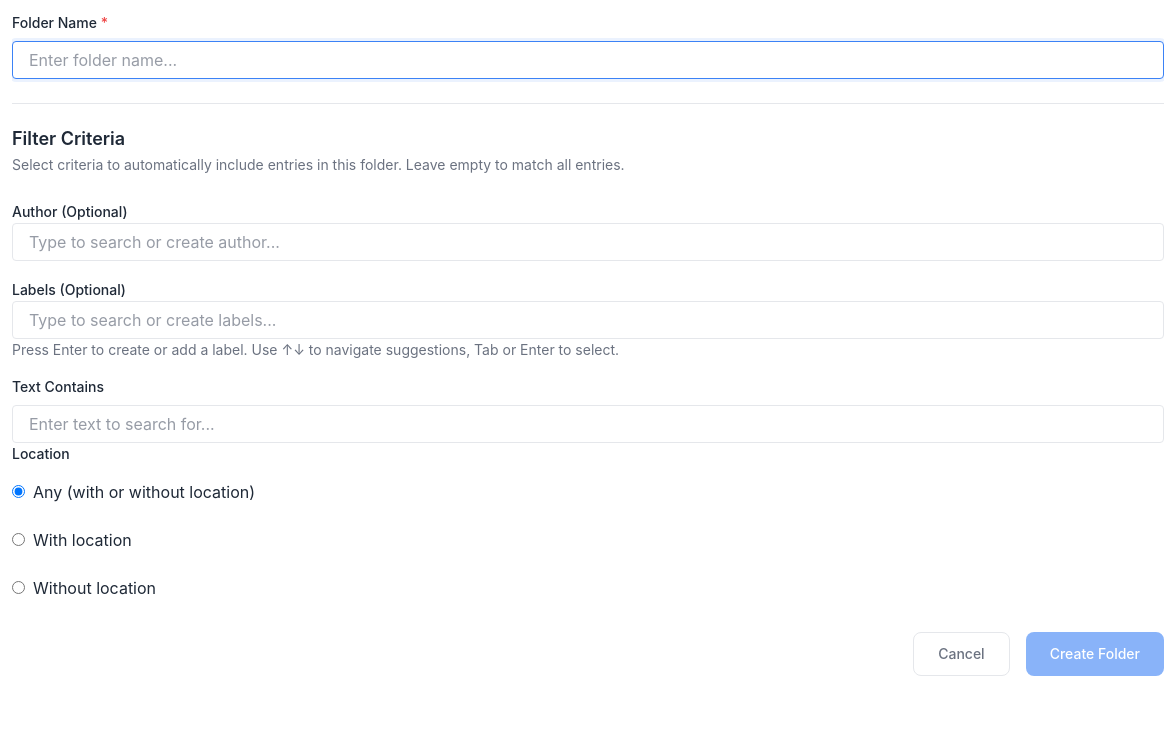
Test: FolderForm › should enable submit button when folder name is provided
Type "Test Folder" into the field labelled "Folder Name *".
click(588, 60); type("Test Folder")  # box [12,41,1164,79]
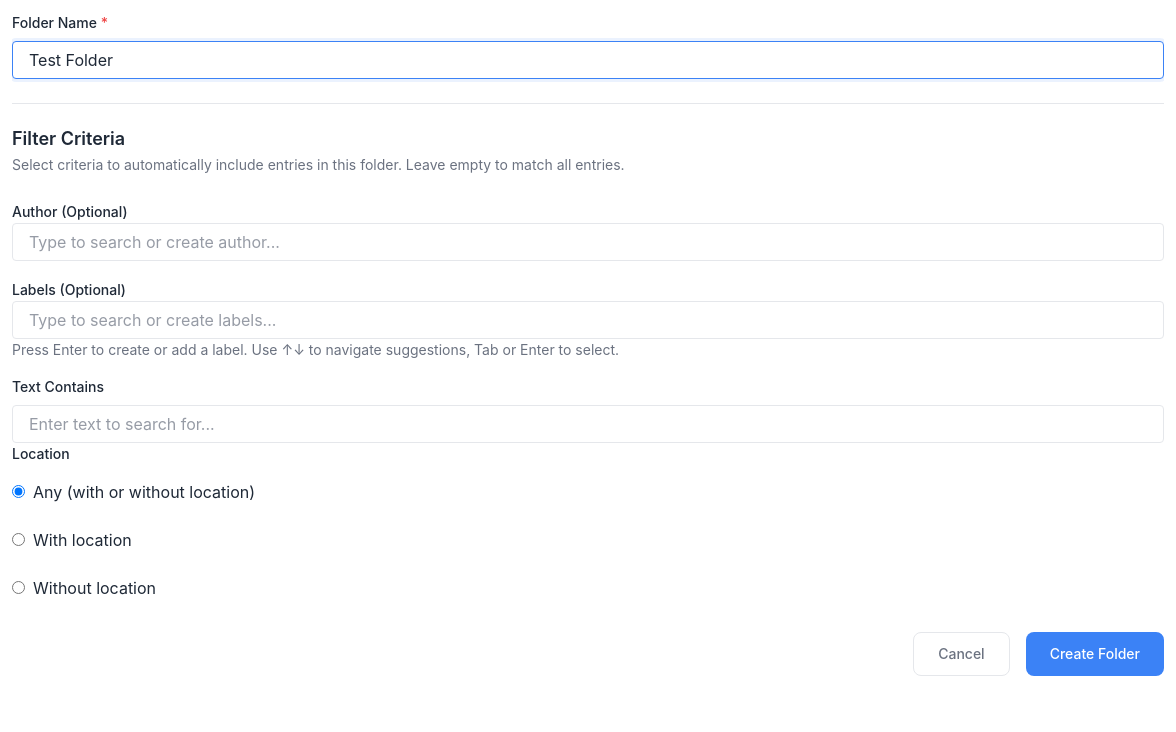
Expected: the button "Create Folder" is enabled, [1026,632,1164,676]
